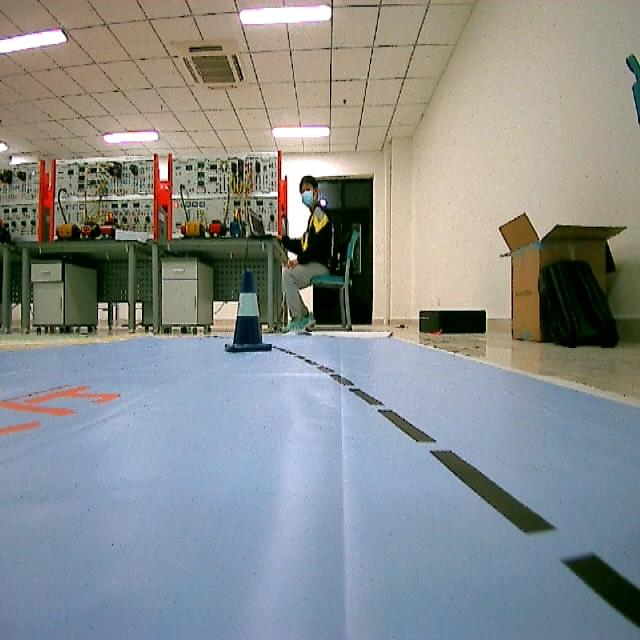obstacle: (219, 268, 272, 354)
